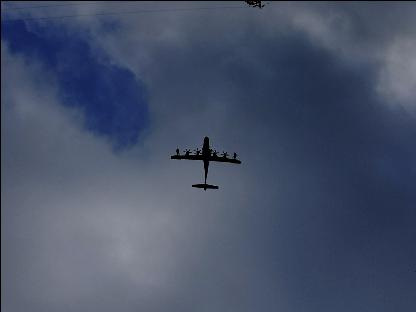Tu95: (169, 136, 239, 191)
